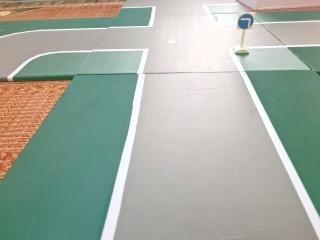left: (236, 11, 254, 32)
